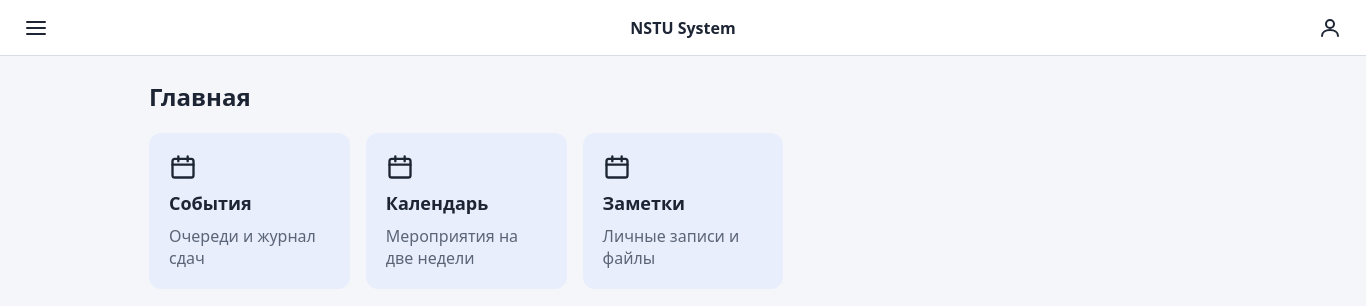
Scenario: главная страница как реестр модулей › реестр содержит плитки «События», «Календарь» и «Заметки», переход открывает /events
Expected: the link with test id "module-tile" shows "Календарь", [366,133,567,289]
Expected: the link with test id "module-tile" shows "Заметки", [583,133,783,289]
Click the link with test id "module-tile" showing "События Очереди и журнал сдач" at (249, 211), box [149,133,350,289]
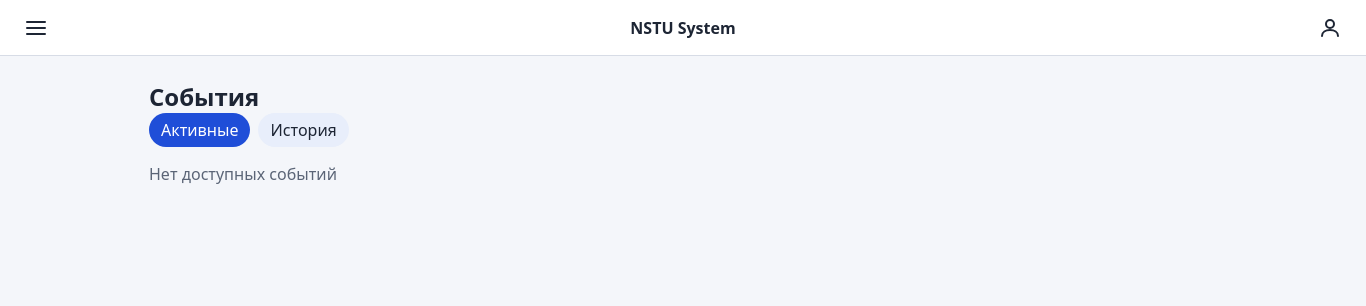
Expected: the heading "События" is shown, [149,80,259,113]
